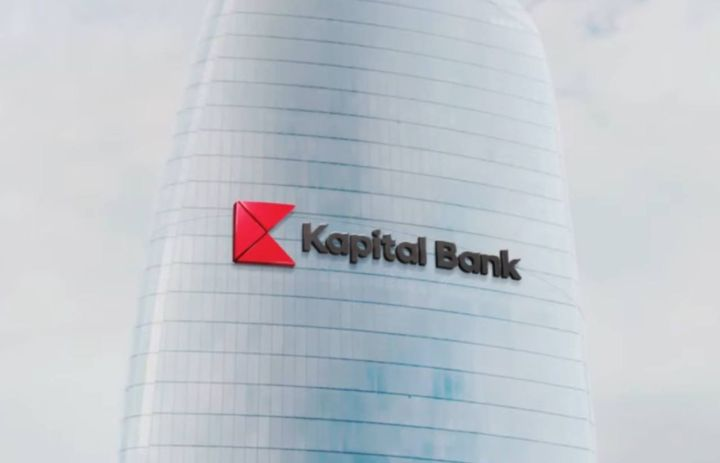Kapital Bank: (230, 199, 298, 269)
